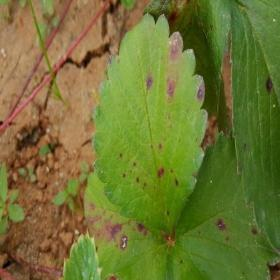Leaf Spot: (91, 13, 209, 239), (167, 128, 279, 279), (229, 0, 279, 255), (142, 0, 232, 118), (83, 170, 171, 279)
